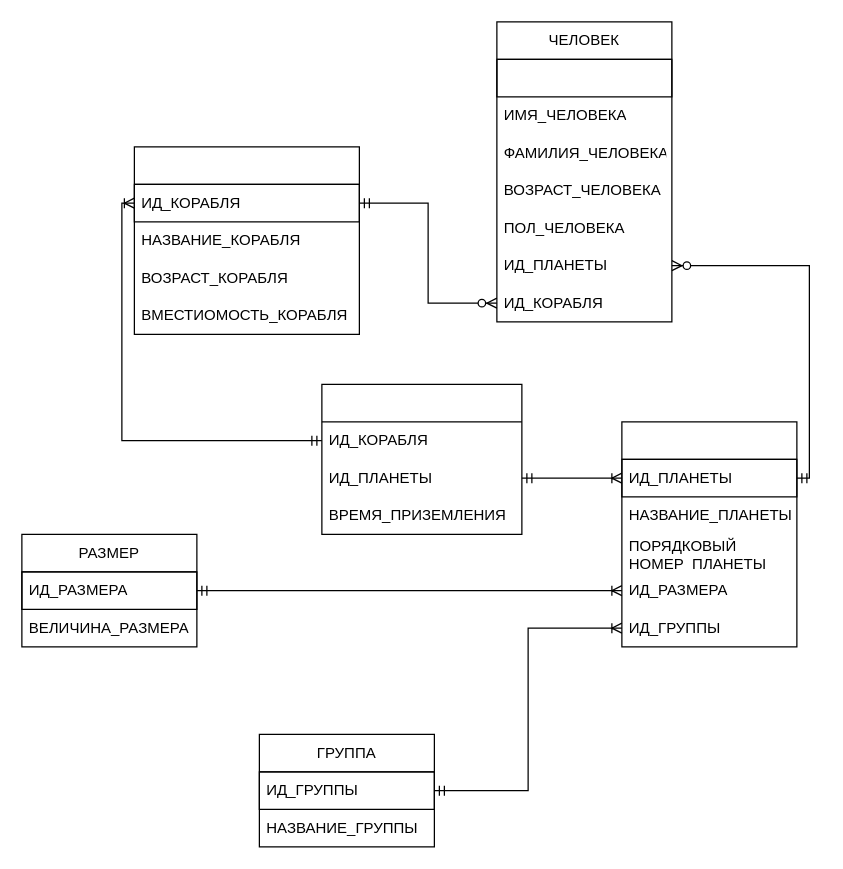
The diagram is 843 pixels wide and 869 high, and some of its shapes have lost their labels. The box of each missing label's shape, as (x1, y1, x2, y2) in pixels:
ИД_ЧЕЛОВЕКА: (496, 58, 672, 97)
КОРАБЛЬ: (133, 146, 359, 334)
ПЛАНЕТА: (621, 421, 797, 647)
ПРИЗЕМЛЕНИЕ: (321, 383, 522, 534)
